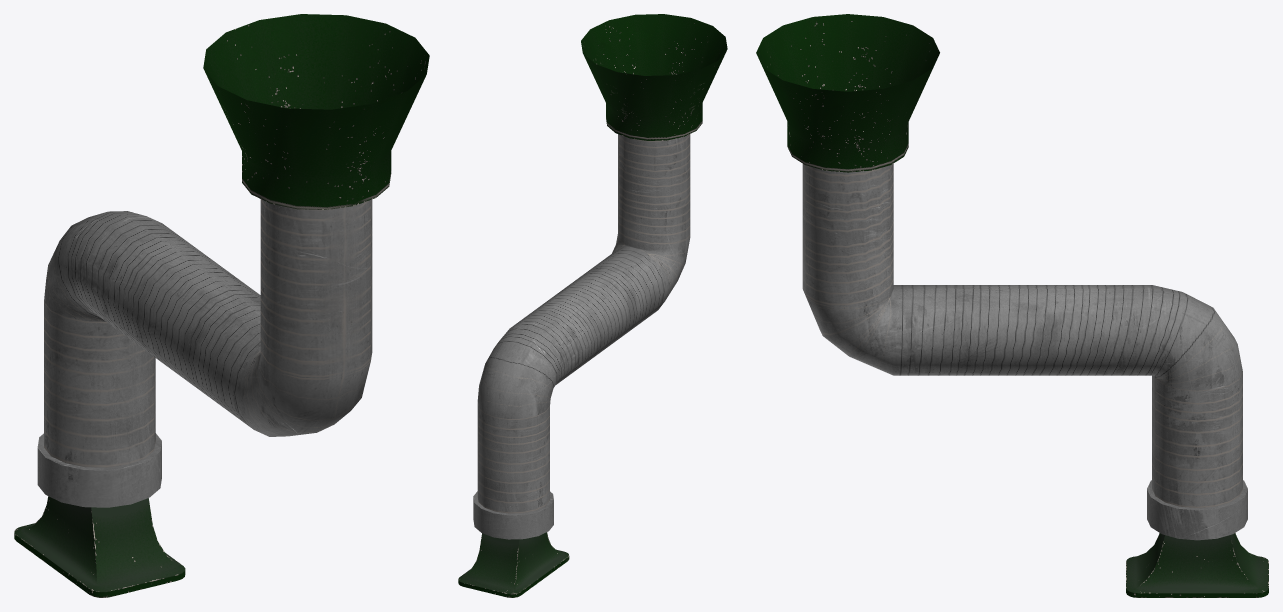
Rendered from Extraction_Arm_New.fbx.
3 renders of one model, left to right at view 1: azimuth 30°, elevation 25°; view 2: azimuth 150°, elevation 25°; view 3: azimuth 270°, elevation 25°, orthographic. The views are drawn at different scales.
Visible parts, largest first — view 1: Extraction_Arm; view 2: Extraction_Arm; view 3: Extraction_Arm.
Part boxes in pixels (x1,y1,x2,y2): Extraction_Arm: (14, 14, 429, 597); Extraction_Arm: (458, 14, 727, 597); Extraction_Arm: (756, 14, 1268, 597).
Size of the model in its own units: 268 by 848 by 745.
